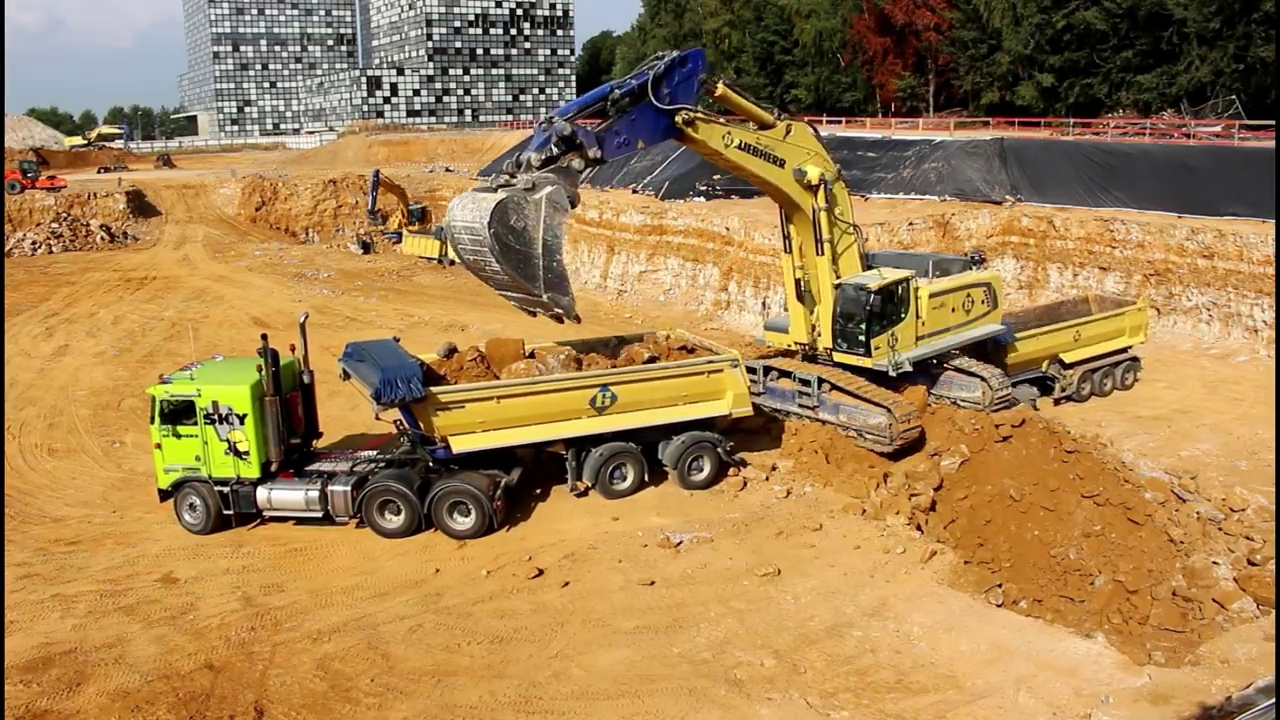compactor: (4, 157, 70, 195)
excavator: (442, 43, 1019, 458), (344, 164, 439, 245), (56, 120, 140, 159)
truck: (140, 306, 757, 544), (829, 286, 1156, 414), (397, 219, 505, 285)
